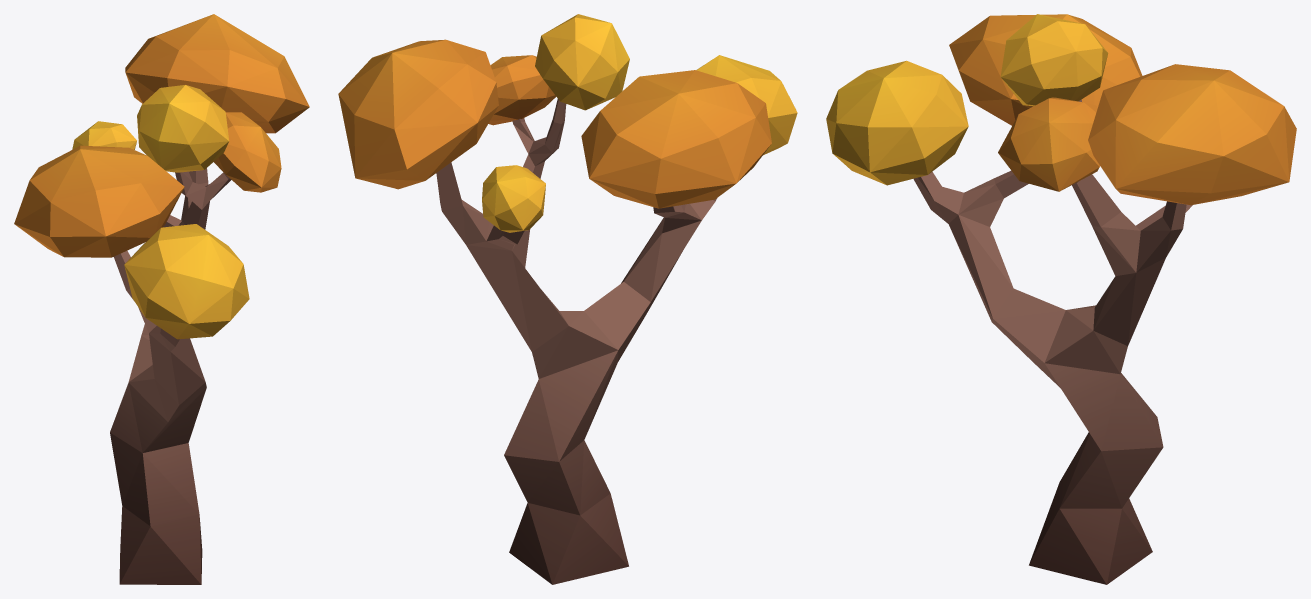
File: AutumnTree4.fbx
The picture shows the model from 3 angles, left to right: view 1: azimuth 30°, elevation 25°; view 2: azimuth 150°, elevation 25°; view 3: azimuth 270°, elevation 25°; orthographic projection. The views are drawn at different scales.
Visible parts, largest first — view 1: AutumnTree4; view 2: AutumnTree4; view 3: AutumnTree4.
Part boxes in pixels (x1=…): AutumnTree4: x1=14, y1=14, x2=309, y2=584; AutumnTree4: x1=338, y1=14, x2=797, y2=584; AutumnTree4: x1=826, y1=14, x2=1296, y2=584.
Size of the model in its own units: 285 by 429 by 337.
